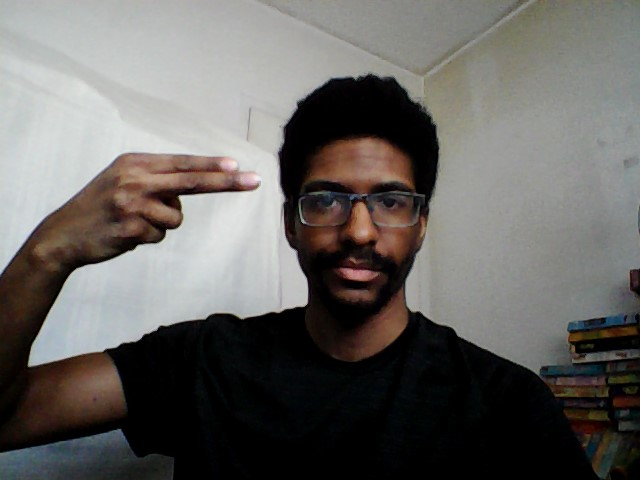h: (43, 149, 265, 280)
